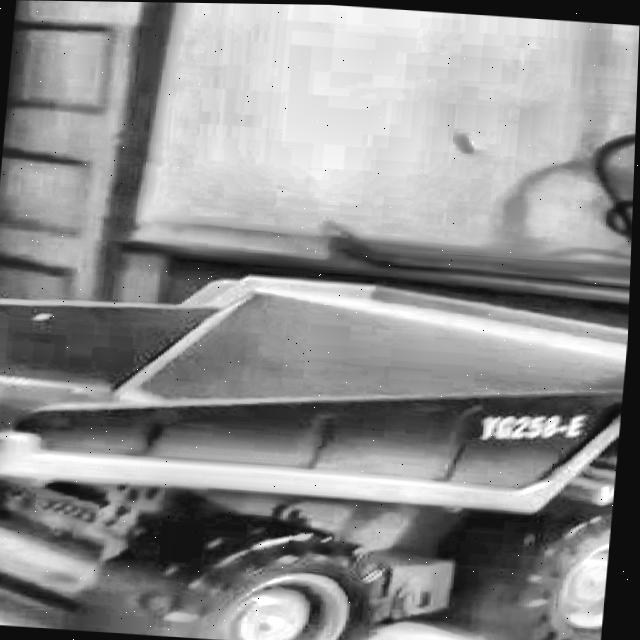dump_truck: (0, 250, 633, 640)
